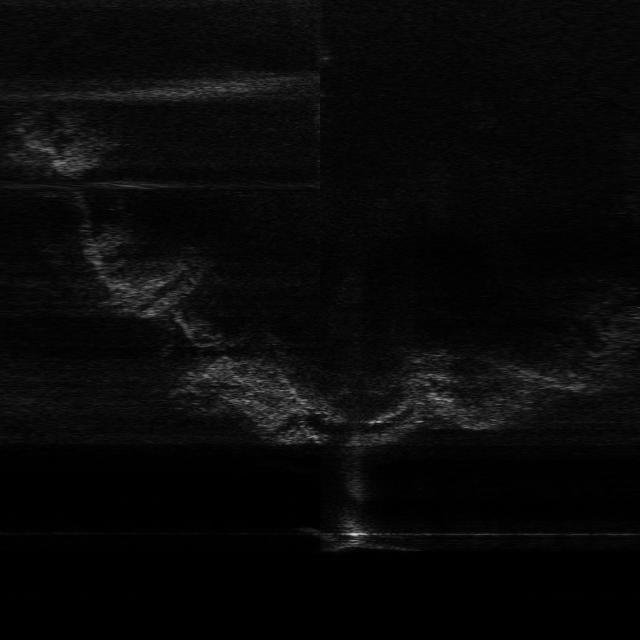plane: (300, 521, 420, 553)
